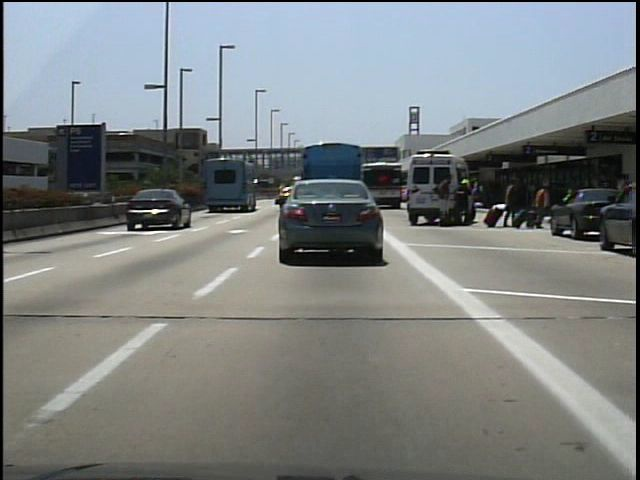person: (432, 170, 455, 227), (529, 178, 553, 232), (500, 176, 523, 232), (452, 175, 475, 228)
